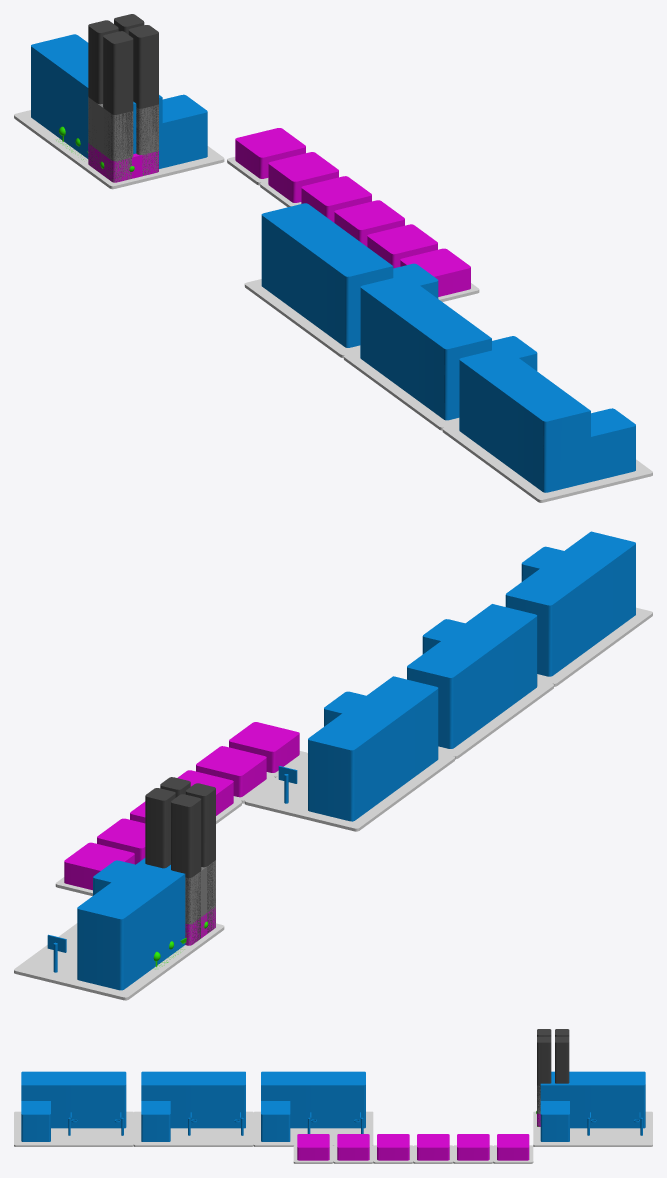
Rendered from Map.gltf.
3 views of the same model, one above another, from view 1: azimuth 30°, elevation 25°; view 2: azimuth 150°, elevation 25°; view 3: azimuth 270°, elevation 25° (orthographic). The views are drawn at different scales.
Parts seen in each view (by area): view 1: School_2x3 (×4), GStore_1x1 (×7), Work_1x1, ABloc_1x1, APlex_1x1; view 2: School_2x3 (×4), GStore_1x1 (×6), Work_1x1, ABloc_1x1; view 3: School_2x3 (×4), GStore_1x1 (×6), Work_1x1.
Part boxes in pixels (x1,y1,x2,y2): School_2x3 (×4): [14, 34, 652, 502]; GStore_1x1 (×7): [80, 128, 479, 301]; Work_1x1: [83, 14, 158, 183]; ABloc_1x1: [88, 97, 158, 181]; APlex_1x1: [81, 141, 164, 188]; School_2x3 (×4): [14, 531, 652, 1000]; GStore_1x1 (×6): [55, 722, 307, 951]; Work_1x1: [145, 777, 215, 948]; ABloc_1x1: [185, 860, 215, 944]; School_2x3 (×4): [14, 1071, 652, 1146]; GStore_1x1 (×6): [293, 1134, 533, 1163]; Work_1x1: [535, 1029, 569, 1126].
Bounding box in the file's own units: 3 × 2.37 × 16.
